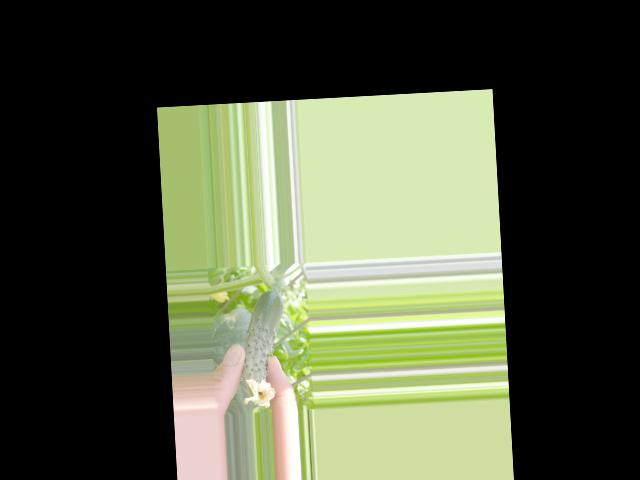cucumber: (237, 289, 288, 407)
